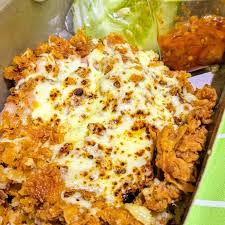ayam_geprek: (16, 35, 189, 225)
